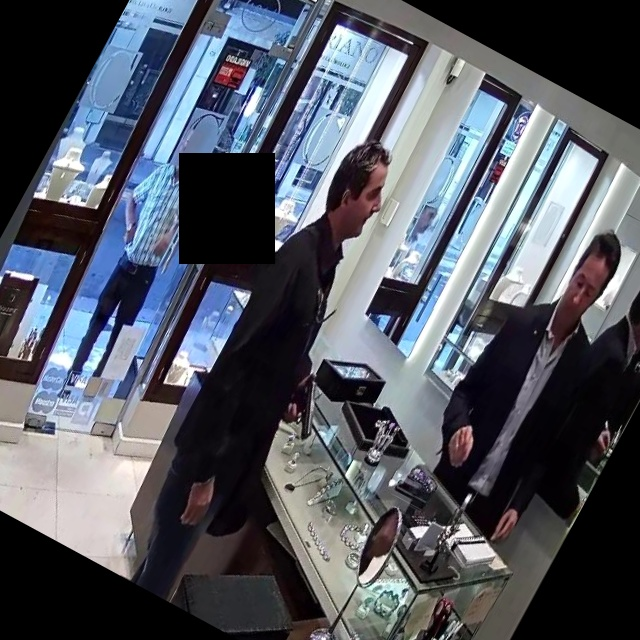gun: (262, 355, 350, 461)
